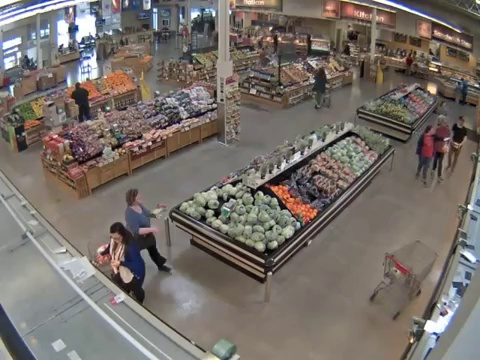face: (109, 229, 121, 244), (133, 193, 141, 204), (458, 120, 464, 125)
